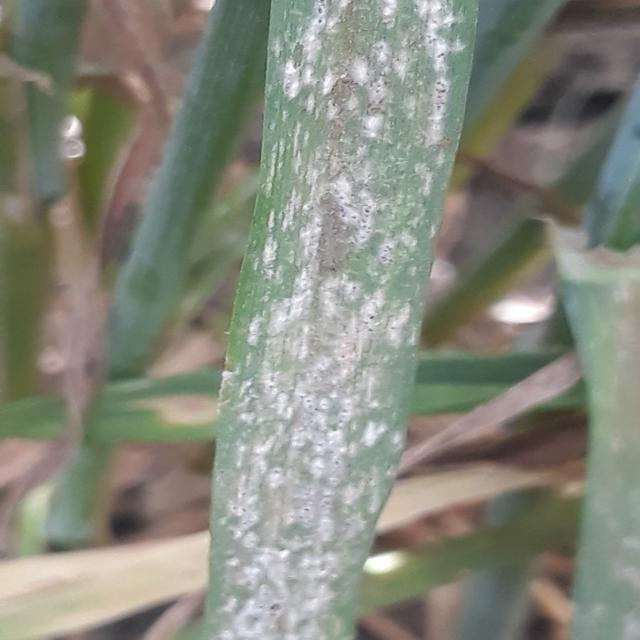powder_mildew: (202, 0, 483, 640)
